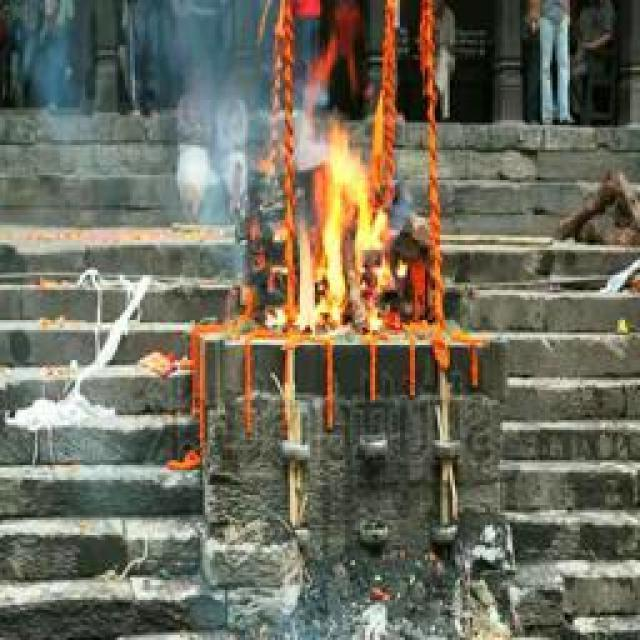Fire: (290, 124, 391, 337)
